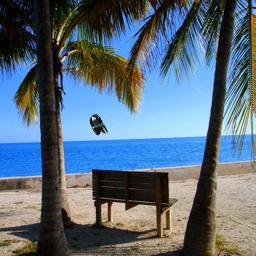Swallow: (89, 113, 108, 136)
